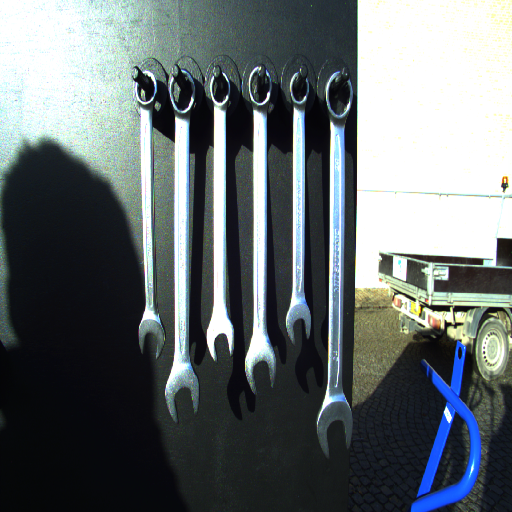bottom: (312, 395, 356, 457), (164, 369, 203, 427), (243, 342, 281, 397), (203, 316, 238, 361), (284, 304, 316, 346), (136, 318, 167, 359)
top: (322, 71, 356, 122), (166, 67, 198, 117), (244, 64, 274, 110), (131, 68, 159, 106), (208, 70, 232, 109), (288, 69, 311, 108)
